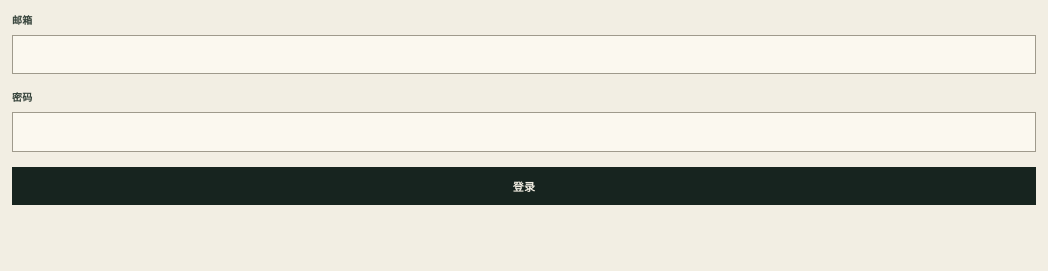
Test case: admin login form › validates fields and reports an invalid administrator login
Step 1. Type "admin@example.com" into the field labelled "邮箱" → (524, 54), box [12,34,1036,74]
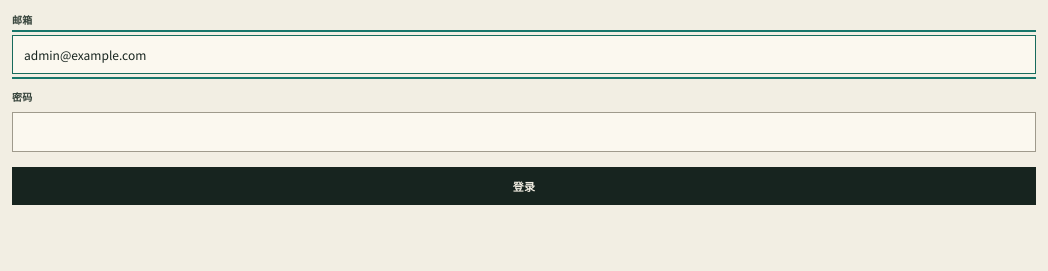
Step 2. Type "wrong-password" into the password field labelled "密码" → (524, 132), box [12,112,1036,152]
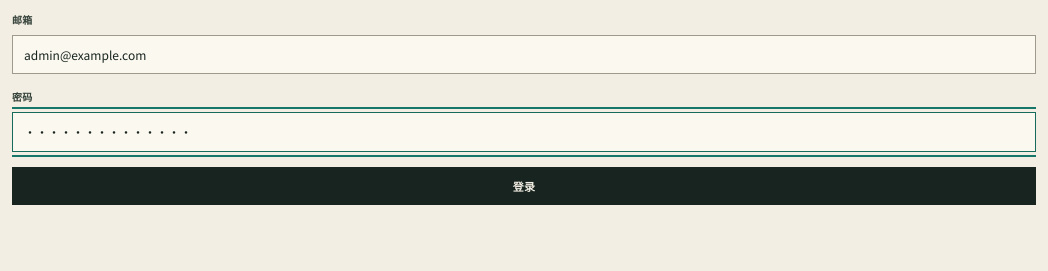
Step 3. Click the button "登录" → (524, 186), box [12,167,1036,205]
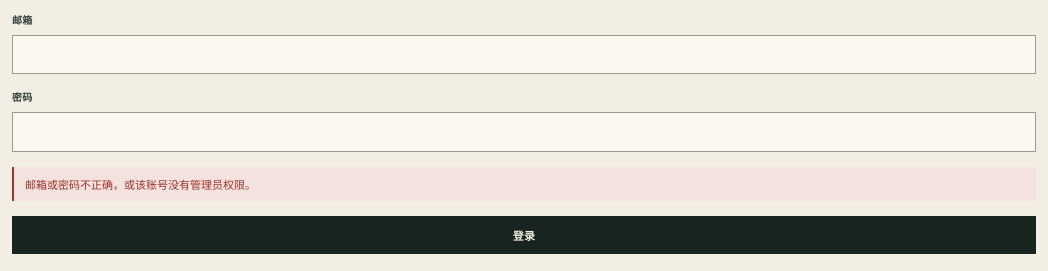
Expected: the message shows "邮箱或密码不正确", [25,176,256,192]
